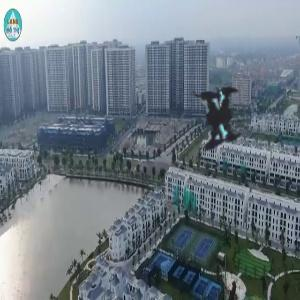drone: (134, 39, 295, 200)
